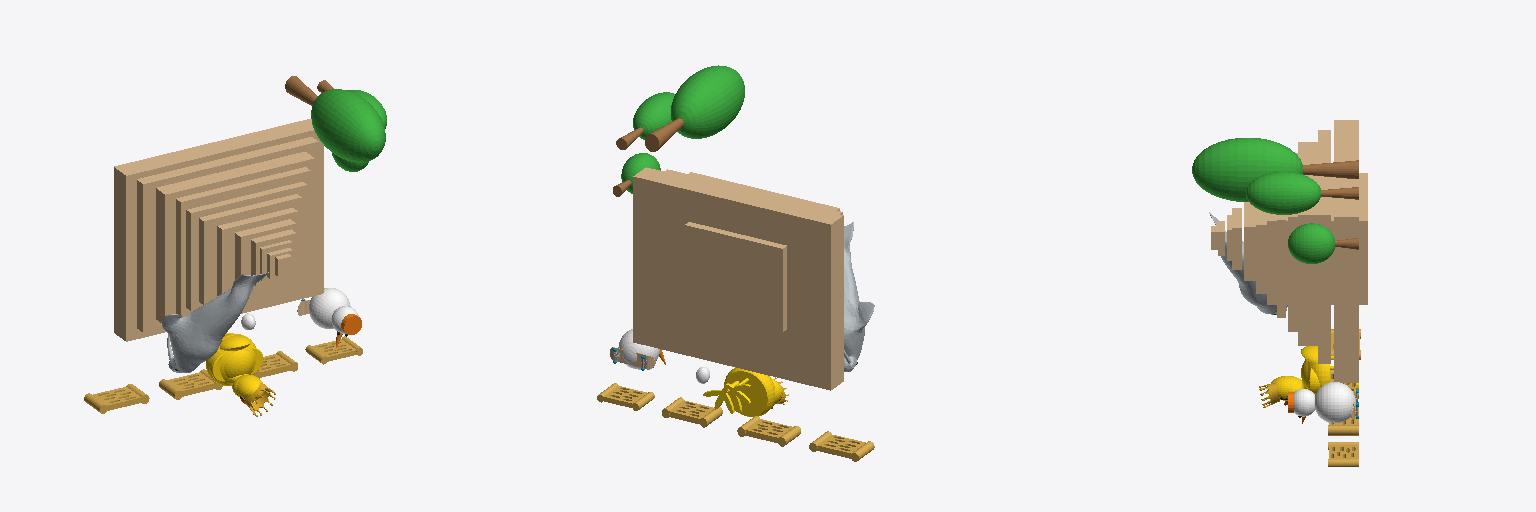
Rendered from tinker.obj.
The picture shows the model from 3 angles: view 1: azimuth 30°, elevation 25°; view 2: azimuth 150°, elevation 25°; view 3: azimuth 270°, elevation 25°; orthographic projection.
Parts seen in each view (by area): view 1: obj_0; view 2: obj_0; view 3: obj_0.
Part boxes in pixels (left/top/right/bottom): obj_0: left=84, top=76, right=386, bottom=416; obj_0: left=597, top=65, right=874, bottom=461; obj_0: left=1192, top=120, right=1367, bottom=466.
Size of the model in its own units: 174 by 194 by 101.